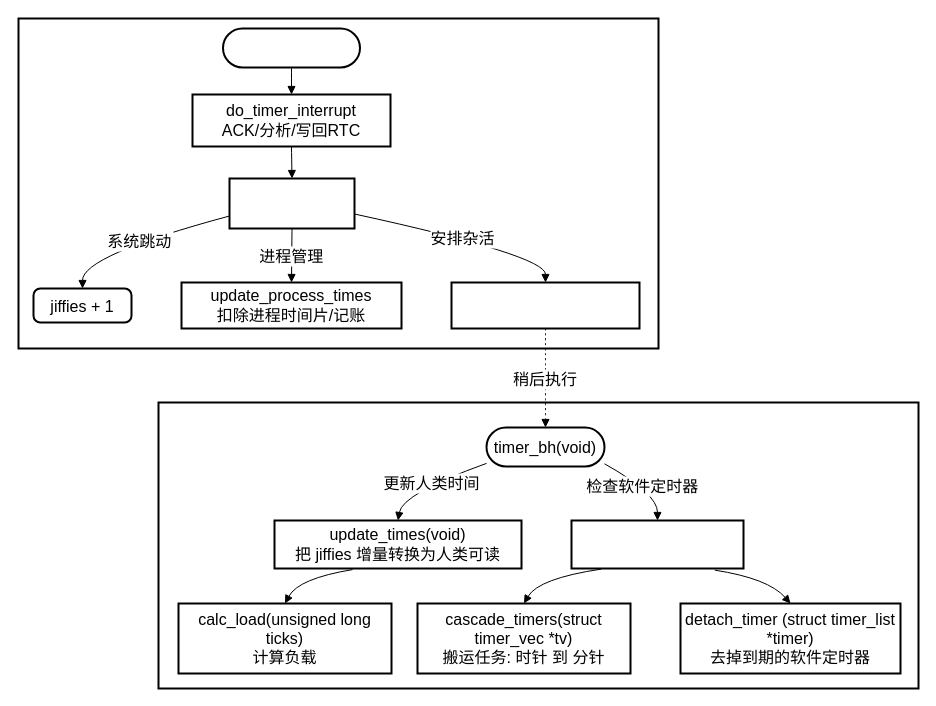
This 936x706 diagram has some shape labels left out. The centre of each missing label's shape, as x and y in pixels:
"do_timer 核心逻辑" belongs at point (291, 203).
"mark_bh 标记底半部需执行" belongs at point (545, 305).
"run_timer_list(void) 执行时间轮算法" belongs at point (657, 544).
"timer_interrupt" belongs at point (291, 47).
